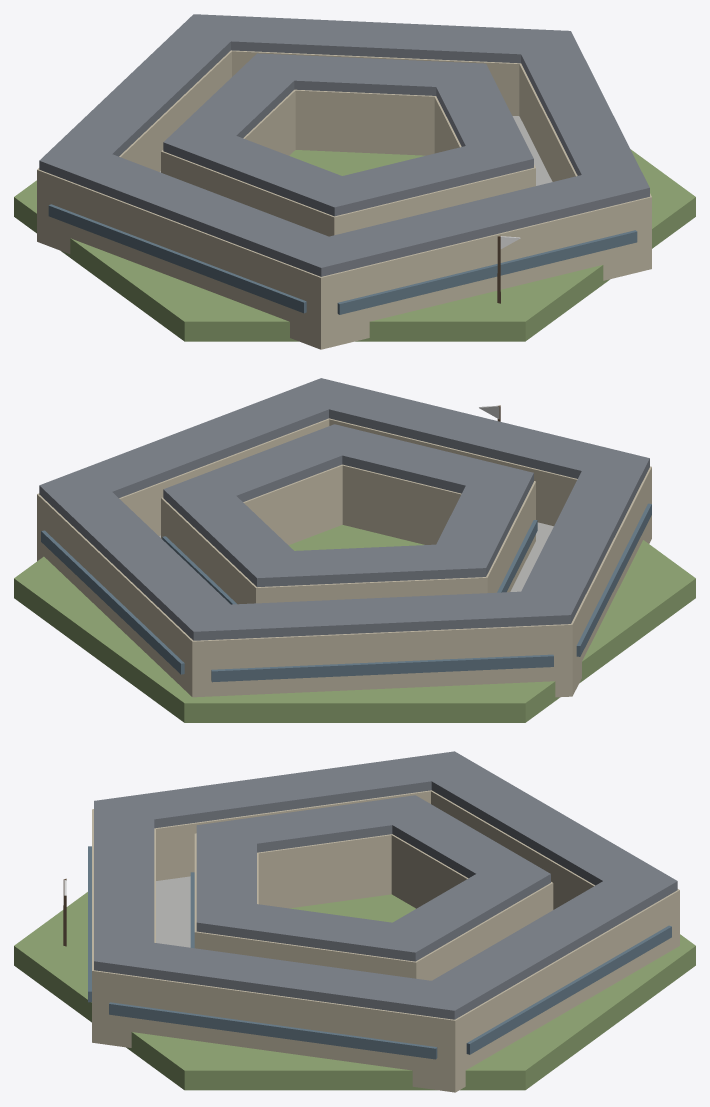
The model's file is pentagon.glb.
3 renders of one model, top to bottom at view 1: azimuth 30°, elevation 25°; view 2: azimuth 150°, elevation 25°; view 3: azimuth 270°, elevation 25°, orthographic.
Parts seen in each view (by area): view 1: LOD0; view 2: LOD0; view 3: LOD0.
Boxes of the visible parts, x1=… form: LOD0: x1=14, y1=14, x2=695, y2=349; LOD0: x1=14, y1=378, x2=695, y2=722; LOD0: x1=14, y1=751, x2=695, y2=1092.
Size of what is drawn, in the model's own units: 1.56 by 0.255 by 1.72.
